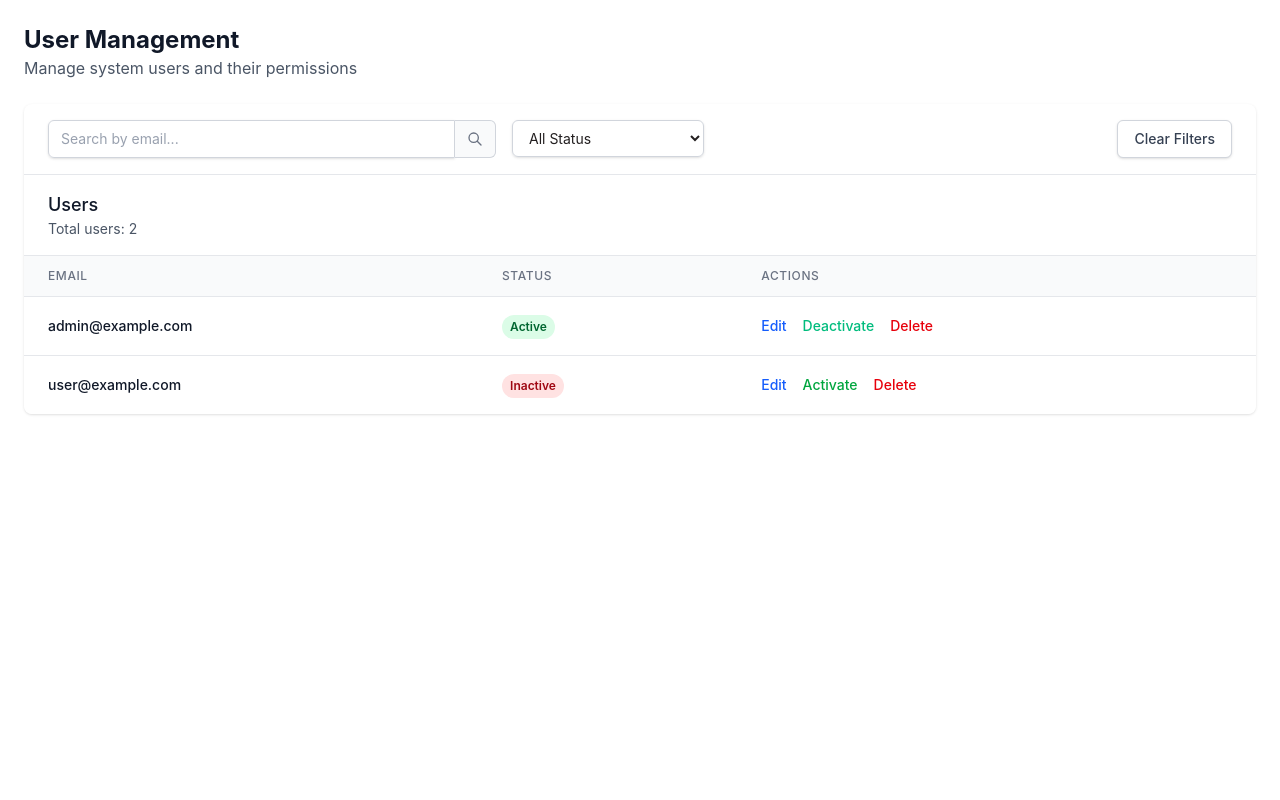
UserManagement › should close dialog when cancel button is clicked
The width and height of the screenshot is (1280, 800).
Expected: the text "admin@example.com" is shown, top-left (24, 296), bottom-right (478, 356)
Click the button "Deactivate": (838, 326) top-left (803, 316), bottom-right (874, 336)
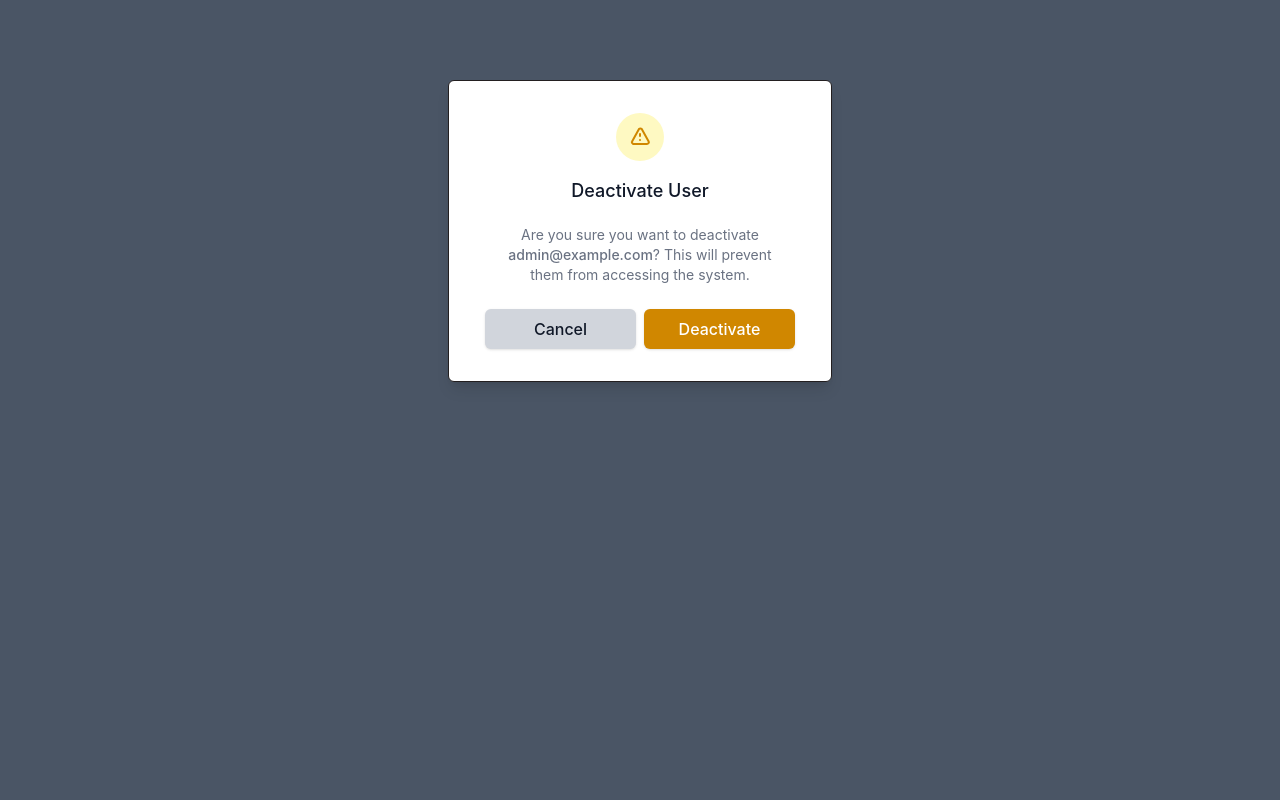
Expected: the heading "Deactivate User" is shown, top-left (571, 180), bottom-right (709, 201)
Click the button "Cancel": (560, 329) top-left (485, 309), bottom-right (636, 349)
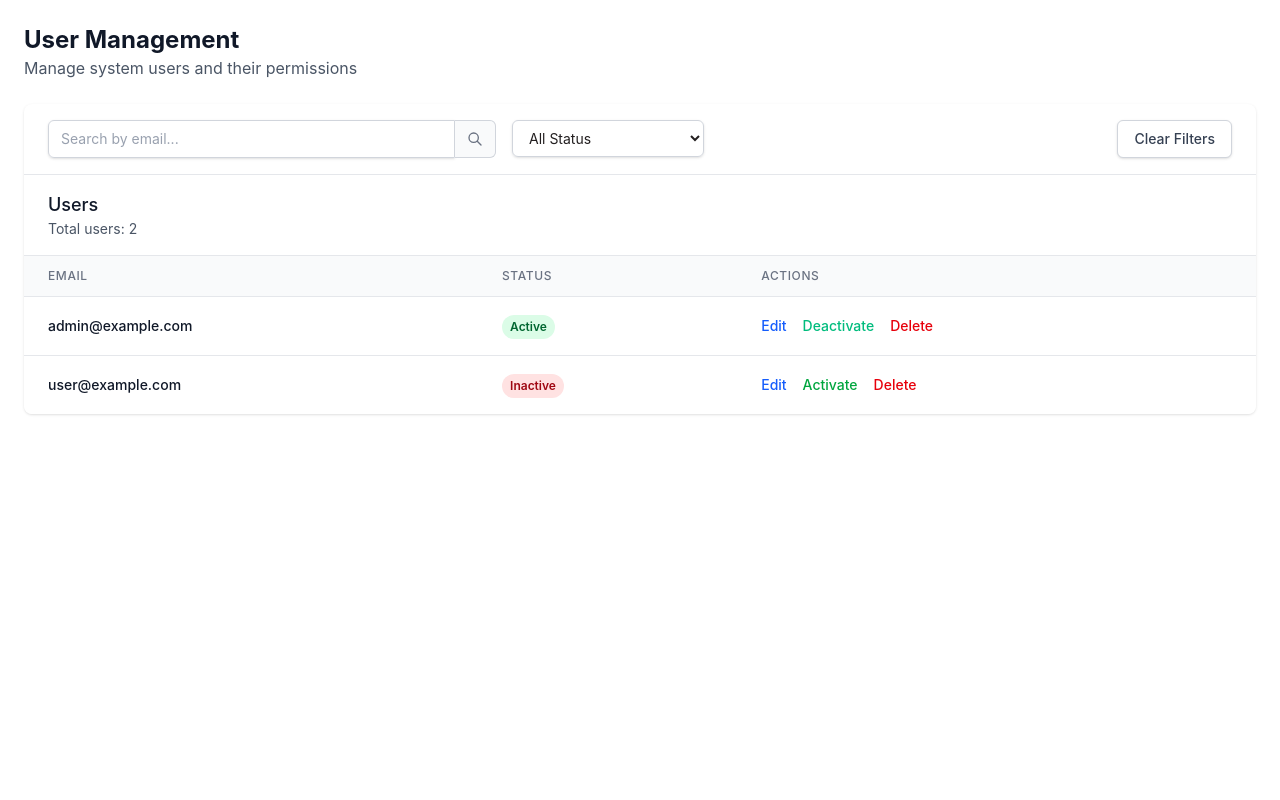
Expected: the heading "Deactivate User" is gone
